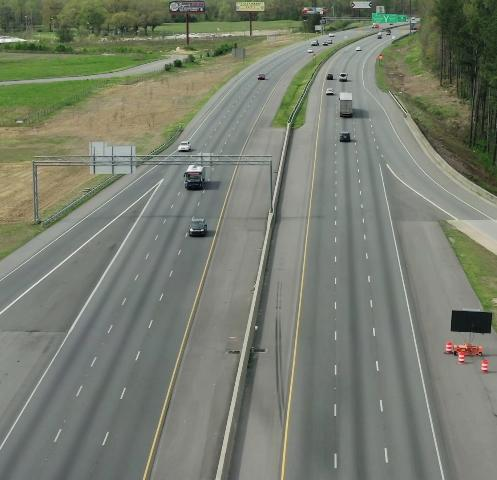bus: (183, 162, 209, 192)
car: (188, 215, 208, 239), (338, 129, 353, 143), (177, 140, 191, 152), (258, 73, 266, 80), (327, 88, 333, 96), (326, 74, 334, 80)
pickup-truck: (340, 73, 347, 82)
truck: (338, 92, 355, 117)
